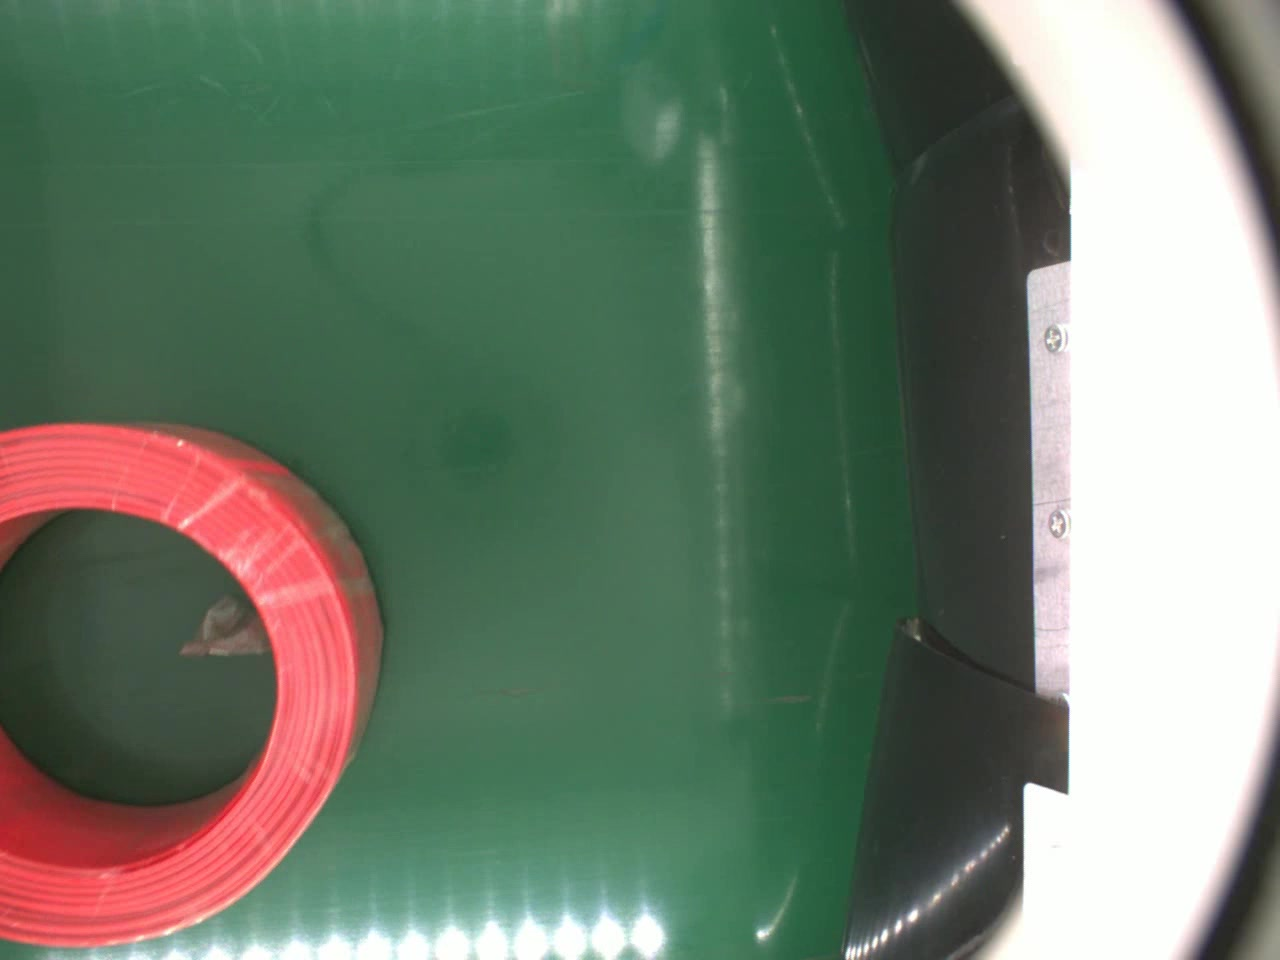red: (0, 412, 390, 947)
